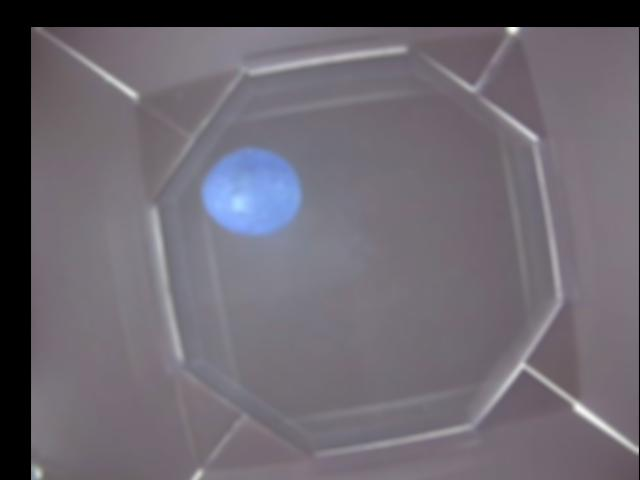Potato: (202, 146, 297, 234)
